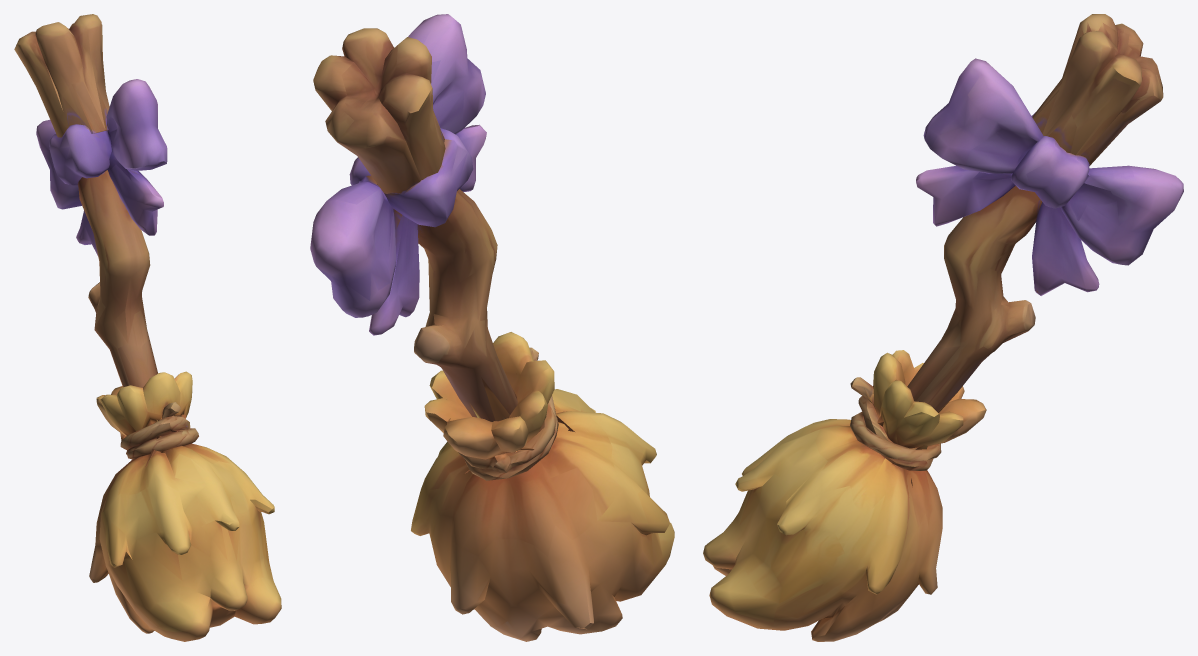
Rendered from S9_Broom_LOD1.fbx.
3 views of the same model, side by side, from view 1: azimuth 30°, elevation 25°; view 2: azimuth 150°, elevation 25°; view 3: azimuth 270°, elevation 25° (orthographic). The views are drawn at different scales.
Parts seen in each view (by area): view 1: S9_Broom_LOD1; view 2: S9_Broom_LOD1; view 3: S9_Broom_LOD1.
Boxes of the visible parts, <box> form: S9_Broom_LOD1: <box>14,14,281,641</box>; S9_Broom_LOD1: <box>310,14,674,641</box>; S9_Broom_LOD1: <box>703,14,1183,641</box>.
Bounding box in the file's own units: 0.458 × 1.4 × 1.02.
1 material, 1 textured.
